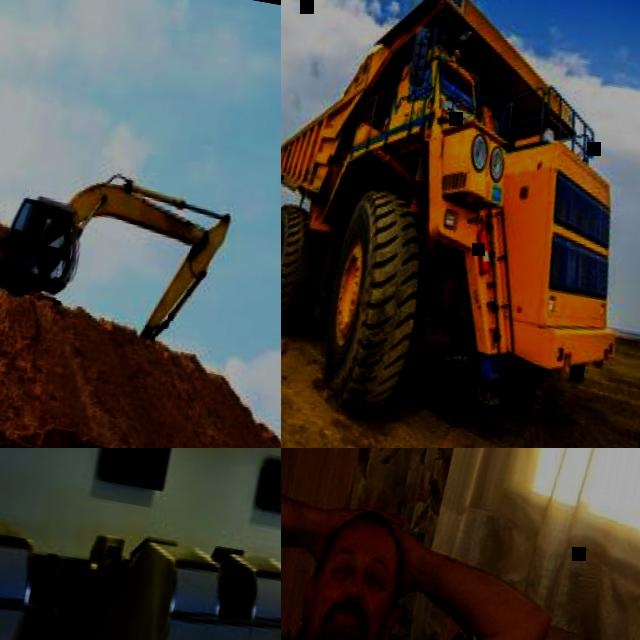NO-Hardhat: (330, 507, 411, 565)
NO-Mask: (290, 586, 396, 640)
Person: (281, 468, 572, 640)
machinery: (281, 0, 640, 448), (0, 142, 235, 350)
